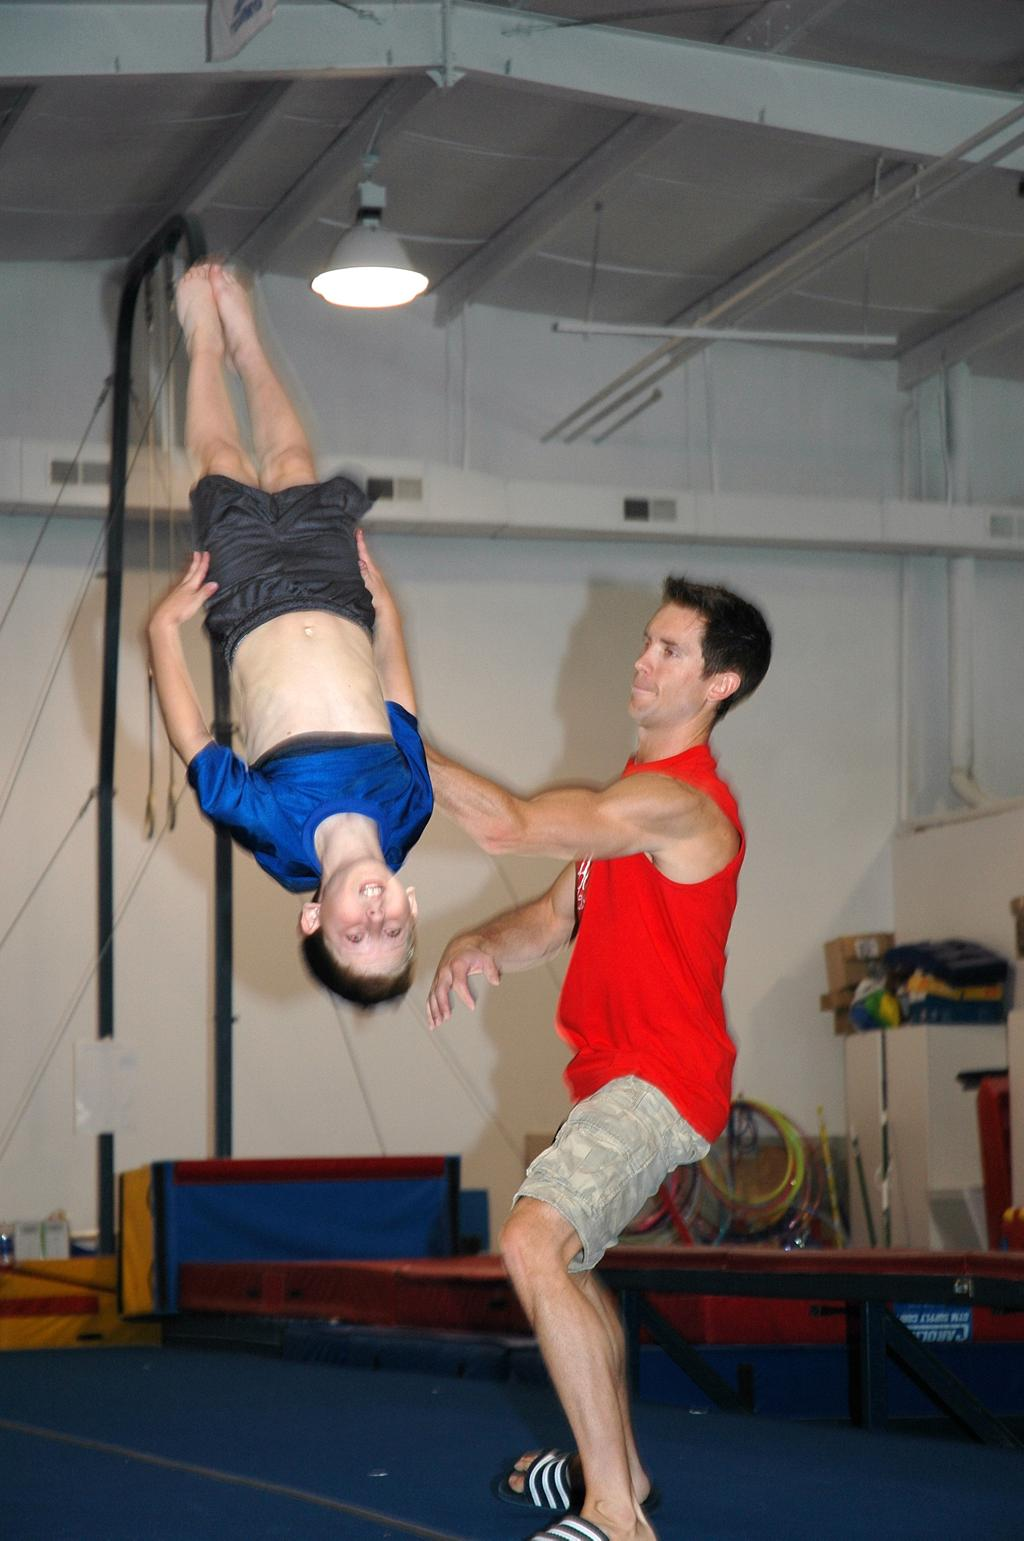face: (620, 599, 716, 719), (322, 861, 409, 991)
